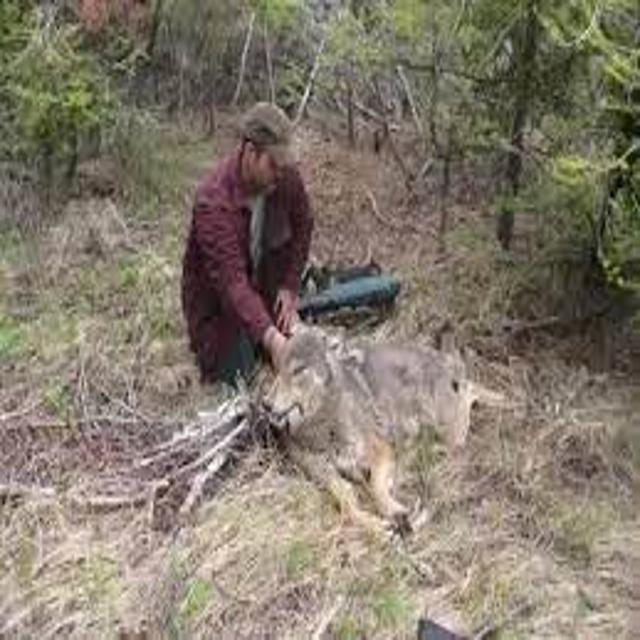poacher: (142, 75, 365, 399)
wolf: (221, 284, 528, 582)
